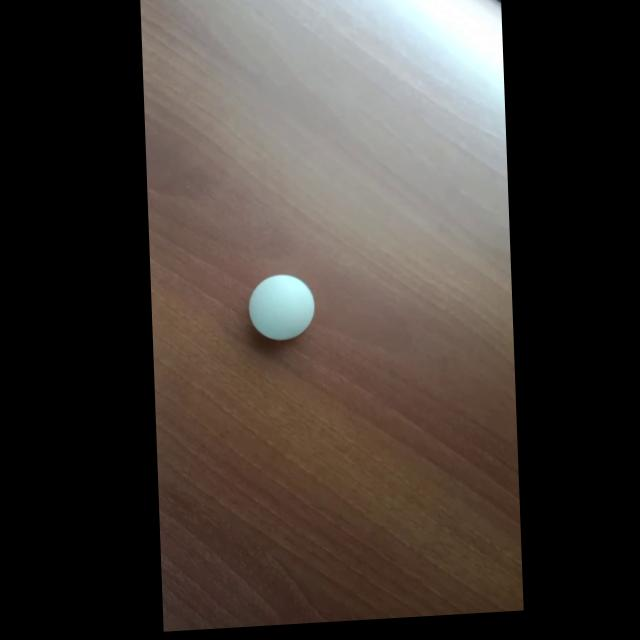white ball: (247, 273, 315, 344)
